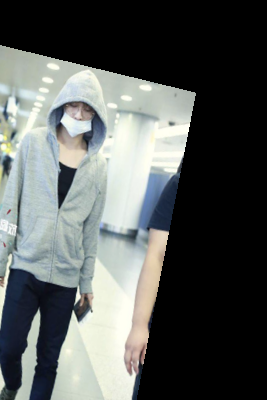mask_weared_incorrect: (49, 63, 119, 142)
